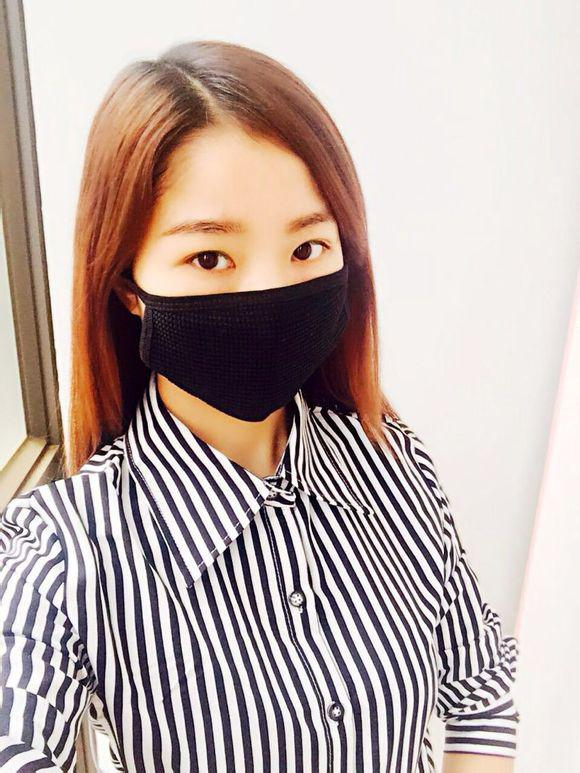OK: (150, 212, 348, 410)
